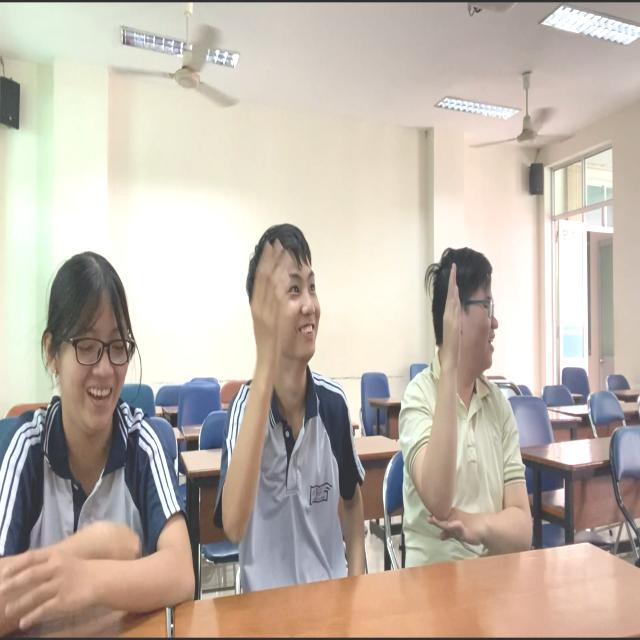raise_hand: (223, 204, 356, 626), (415, 227, 520, 549)
